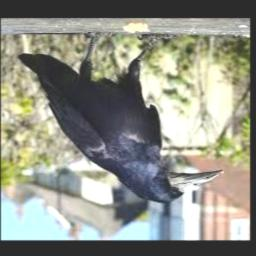Crow: (18, 32, 223, 206)
